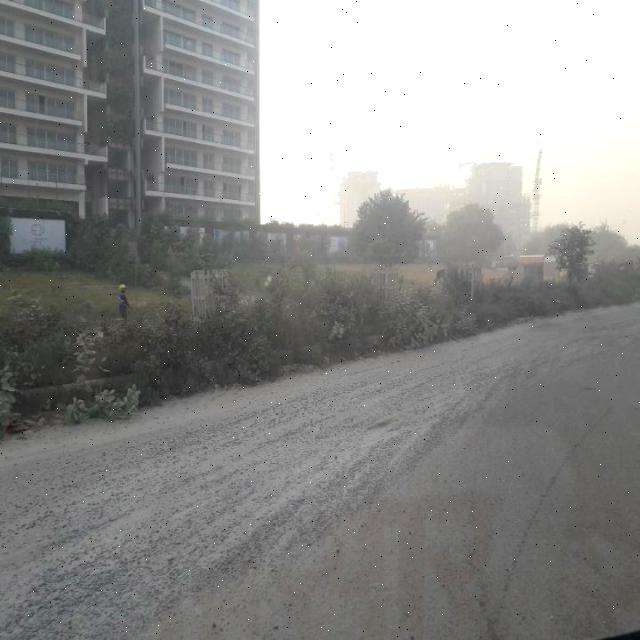D00: (490, 387, 616, 614), (454, 409, 491, 626)
